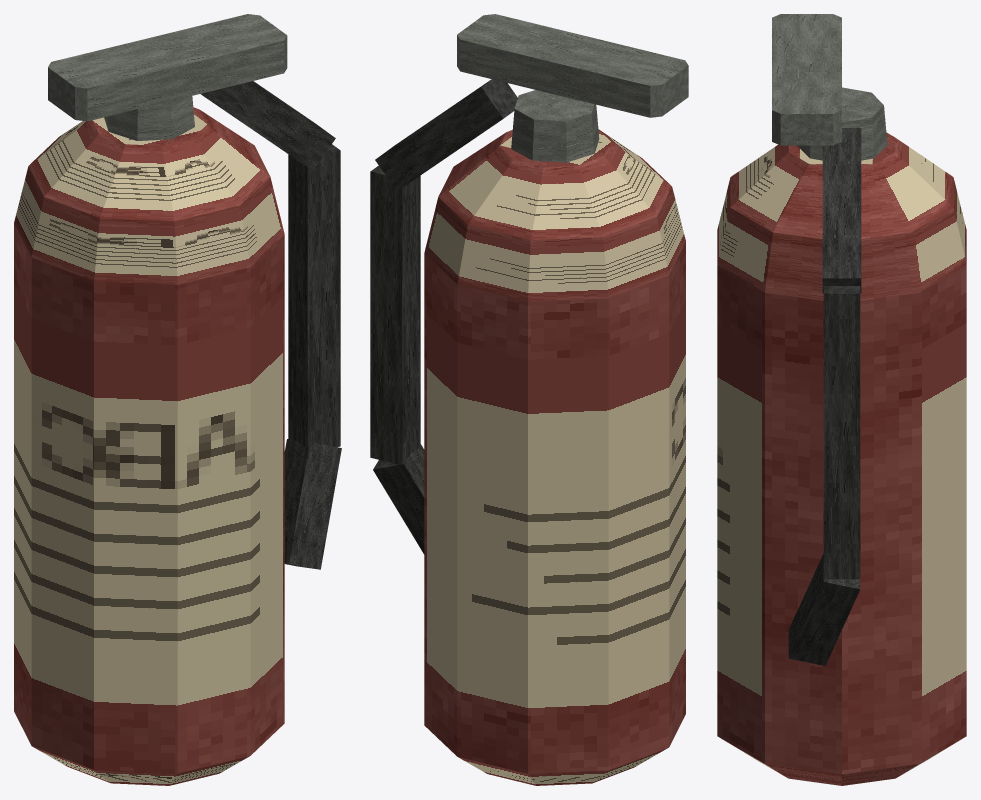
File: extinguisher.glb
The picture shows the model from 3 angles, left to right: view 1: azimuth 30°, elevation 25°; view 2: azimuth 150°, elevation 25°; view 3: azimuth 270°, elevation 25°; orthographic projection. The views are drawn at different scales.
Visible parts, largest first — view 1: Body; view 2: Body; view 3: Body.
Boxes of the visible parts, left/top/right/bottom form: Body: left=14, top=14, right=341, bottom=785; Body: left=370, top=14, right=688, bottom=785; Body: left=717, top=14, right=966, bottom=785.
Bounding box in the file's own units: 0.1914 × 0.431 × 0.1427.
1 material, 1 textured.
